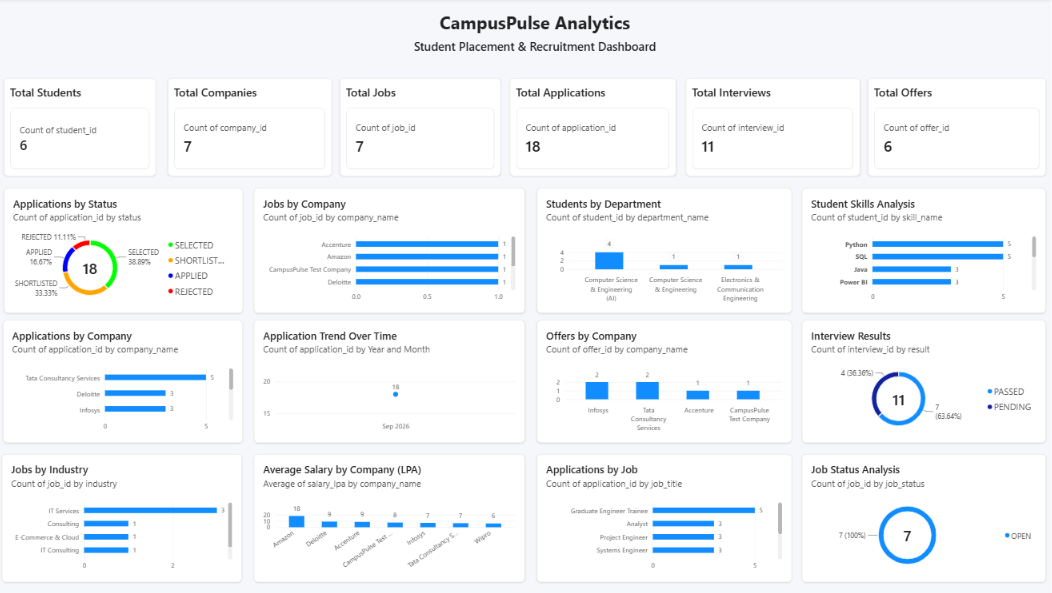

Layout of this report page (visuals, bound fields, positions):
{"tool":"powerbi","page":{"name":"Page 1","canvas":[1920,1080],"ordinal":0},"visuals":[{"type":"cardVisual","title":"Total Students","fields":{"Data":["CountNonNull(public students.student_id)"]},"box":[16.3,144.8,275.1,177.3],"z":0},{"type":"cardVisual","title":"Total Companies","fields":{"Data":["CountNonNull(public companies.company_id)"]},"box":[313.1,144.8,296.8,177.3],"z":1},{"type":"cardVisual","title":"Total Jobs","fields":{"Data":["CountNonNull(public jobs.job_id)"]},"box":[624.3,144.8,291.4,177.3],"z":2},{"type":"cardVisual","title":"Total Applications","fields":{"Data":["CountNonNull(public applications.application_id)"]},"box":[932,144.8,300.4,177.3],"z":3},{"type":"cardVisual","title":"Total Interviews","fields":{"Data":["CountNonNull(public interviews.interview_id)"]},"box":[1250.5,144.8,314.9,177.3],"z":4},{"type":"cardVisual","title":"Total Offers","fields":{"Data":["CountNonNull(public offers.offer_id)"]},"box":[1579.8,144.8,322.1,177.3],"z":5},{"type":"donutChart","title":"Applications by Status ","fields":{"Category":["public applications.status"],"Y":["CountNonNull(public applications.application_id)"]},"box":[16.3,343.8,432.5,226.2],"z":6},{"type":"clusteredBarChart","title":"Jobs by Company","fields":{"Category":["public companies.company_name"],"Y":["CountNonNull(public jobs.job_id)"]},"box":[468.7,343.8,490.4,226.2],"z":7},{"type":"clusteredBarChart","title":"Student Skills Analysis","fields":{"Category":["public skills.skill_name"],"Y":["CountNonNull(public student_skills.student_id)"]},"box":[1460.4,343.8,441.6,226.2],"z":8},{"type":"clusteredColumnChart","title":"Students by Department","fields":{"Category":["public departments.department_name"],"Y":["CountNonNull(public students.student_id)"]},"box":[980.8,343.8,461.5,226.2],"z":9},{"type":"clusteredBarChart","title":"Applications by Company","fields":{"Category":["public companies.company_name"],"Y":["CountNonNull(public applications.application_id)"]},"box":[14.5,582.7,434.3,222.6],"z":10},{"type":"lineChart","title":"Application Trend Over Time","fields":{"Category":["public applications.applied_at.Variation.Date Hierarchy.Year","public applications.applied_at.Variation.Date Hierarchy.Month"],"Y":["CountNonNull(public applications.application_id)"]},"box":[468.7,582.7,490.4,222.6],"z":11},{"type":"clusteredColumnChart","title":"Offers by Company","fields":{"Category":["public companies.company_name"],"Y":["CountNonNull(public offers.offer_id)"]},"box":[980.8,582.7,461.5,222.6],"z":12},{"type":"donutChart","title":"Interview Results","fields":{"Category":["public interviews.result"],"Y":["CountNonNull(public interviews.interview_id)"]},"box":[1460.4,582.7,441.6,222.6],"z":13},{"type":"clusteredBarChart","title":"Jobs by Industry","fields":{"Category":["public companies.industry"],"Y":["CountNonNull(public jobs.job_id)"]},"box":[12.7,825.2,434.3,231.6],"z":14},{"type":"clusteredColumnChart","title":"Average Salary by Company (LPA)","fields":{"Category":["public companies.company_name"],"Y":["Avg(public jobs.salary_lpa)"]},"box":[468.7,825.2,490.4,231.6],"z":15},{"type":"clusteredBarChart","title":"Applications by Job","fields":{"Category":["public jobs.job_title"],"Y":["CountNonNull(public applications.application_id)"]},"box":[980.8,825.2,461.5,231.6],"z":16},{"type":"donutChart","title":"Job Status Analysis","fields":{"Category":["public jobs.job_status"],"Y":["CountNonNull(public jobs.job_id)"]},"box":[1460.4,825.2,441.6,231.6],"z":17},{"type":"textbox","box":[546.5,21.7,861.4,50.7],"z":18},{"type":"textbox","box":[546.5,72.4,861.4,38],"z":19}]}

Visuals, with their boxes in screenshot pixels (x1, y1, x2, y2), scaled from the page's 1920x1080 canvas onto the 1052x593 screenshot:
"Total Students" cardVisual: {"x1": 9, "y1": 80, "x2": 160, "y2": 177}
"Total Companies" cardVisual: {"x1": 172, "y1": 80, "x2": 334, "y2": 177}
"Total Jobs" cardVisual: {"x1": 342, "y1": 80, "x2": 502, "y2": 177}
"Total Applications" cardVisual: {"x1": 511, "y1": 80, "x2": 675, "y2": 177}
"Total Interviews" cardVisual: {"x1": 685, "y1": 80, "x2": 858, "y2": 177}
"Total Offers" cardVisual: {"x1": 866, "y1": 80, "x2": 1042, "y2": 177}
"Applications by Status " donutChart: {"x1": 9, "y1": 189, "x2": 246, "y2": 313}
"Jobs by Company" clusteredBarChart: {"x1": 257, "y1": 189, "x2": 526, "y2": 313}
"Student Skills Analysis" clusteredBarChart: {"x1": 800, "y1": 189, "x2": 1042, "y2": 313}
"Students by Department" clusteredColumnChart: {"x1": 537, "y1": 189, "x2": 790, "y2": 313}
"Applications by Company" clusteredBarChart: {"x1": 8, "y1": 320, "x2": 246, "y2": 442}
"Application Trend Over Time" lineChart: {"x1": 257, "y1": 320, "x2": 526, "y2": 442}
"Offers by Company" clusteredColumnChart: {"x1": 537, "y1": 320, "x2": 790, "y2": 442}
"Interview Results" donutChart: {"x1": 800, "y1": 320, "x2": 1042, "y2": 442}
"Jobs by Industry" clusteredBarChart: {"x1": 7, "y1": 453, "x2": 245, "y2": 580}
"Average Salary by Company (LPA)" clusteredColumnChart: {"x1": 257, "y1": 453, "x2": 526, "y2": 580}
"Applications by Job" clusteredBarChart: {"x1": 537, "y1": 453, "x2": 790, "y2": 580}
"Job Status Analysis" donutChart: {"x1": 800, "y1": 453, "x2": 1042, "y2": 580}
textbox: {"x1": 299, "y1": 12, "x2": 771, "y2": 40}
textbox: {"x1": 299, "y1": 40, "x2": 771, "y2": 61}
